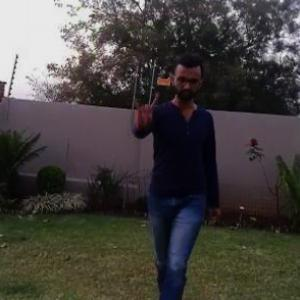takeoff-hand: (129, 88, 164, 132)
